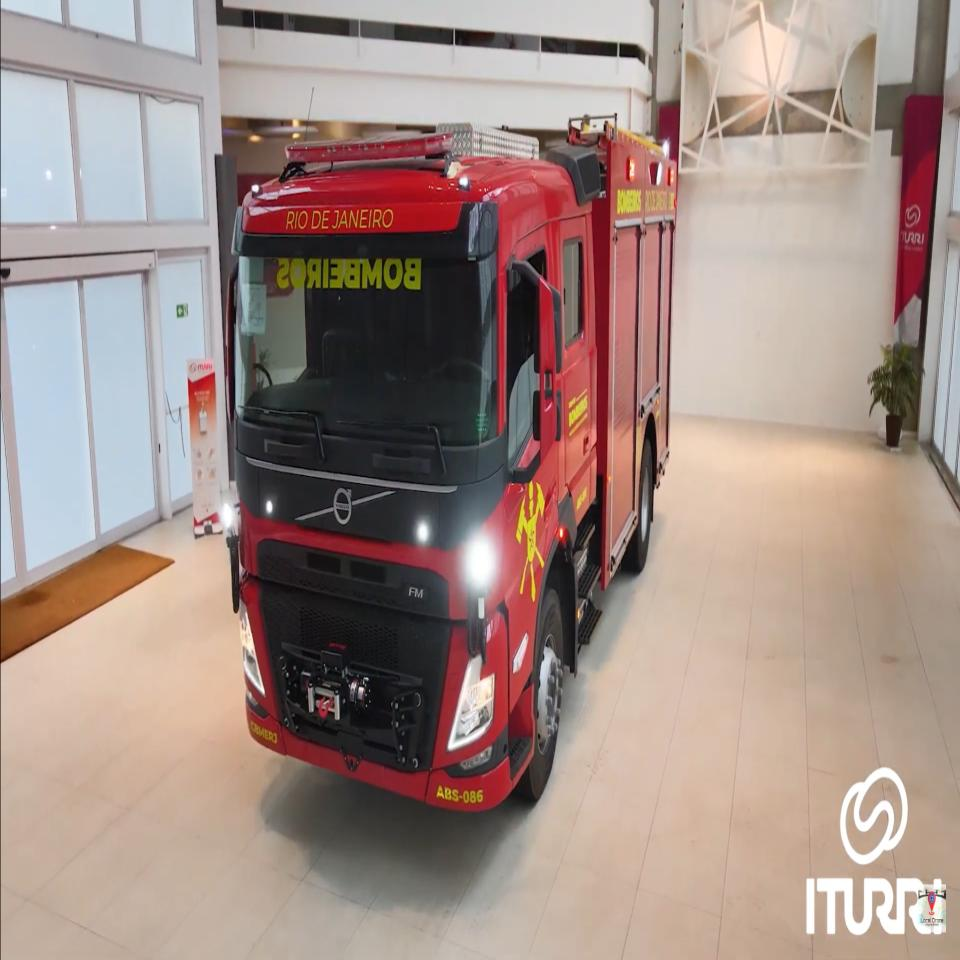viatura: (229, 108, 681, 812)
